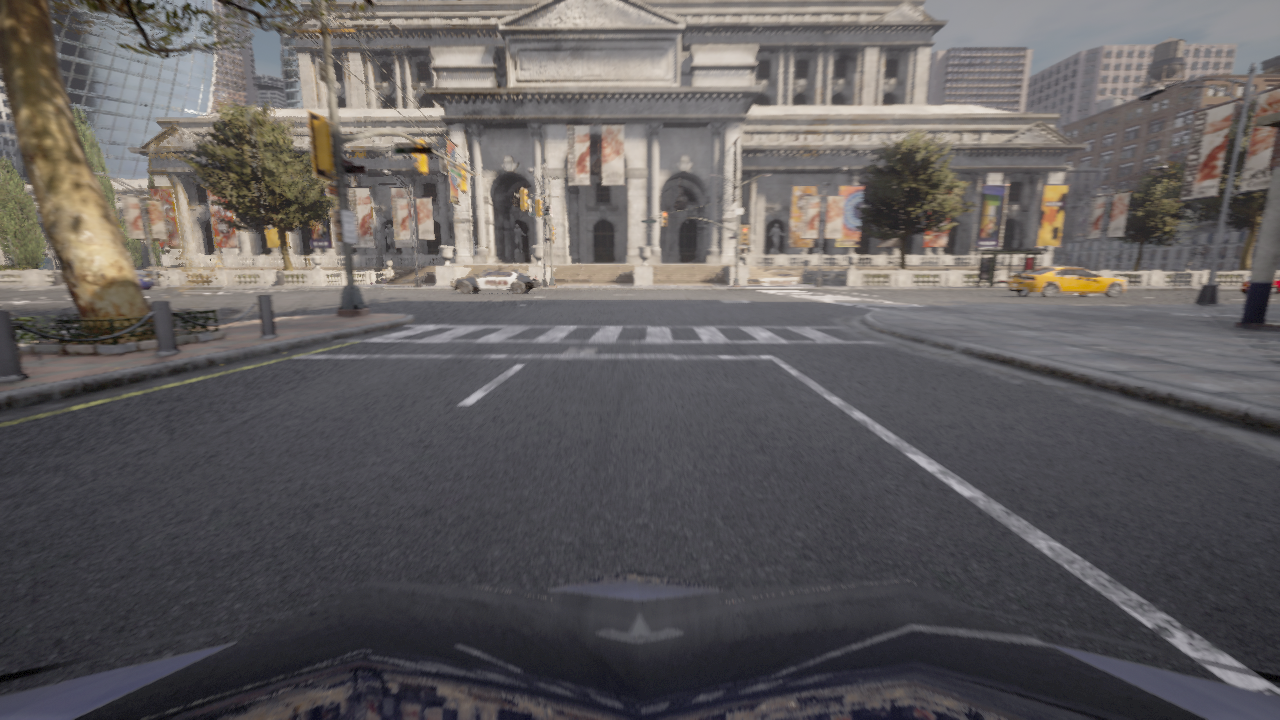cyclist: (0, 569, 1279, 719), (1008, 267, 1126, 298), (451, 267, 541, 294), (1239, 270, 1279, 295), (135, 271, 156, 290)
